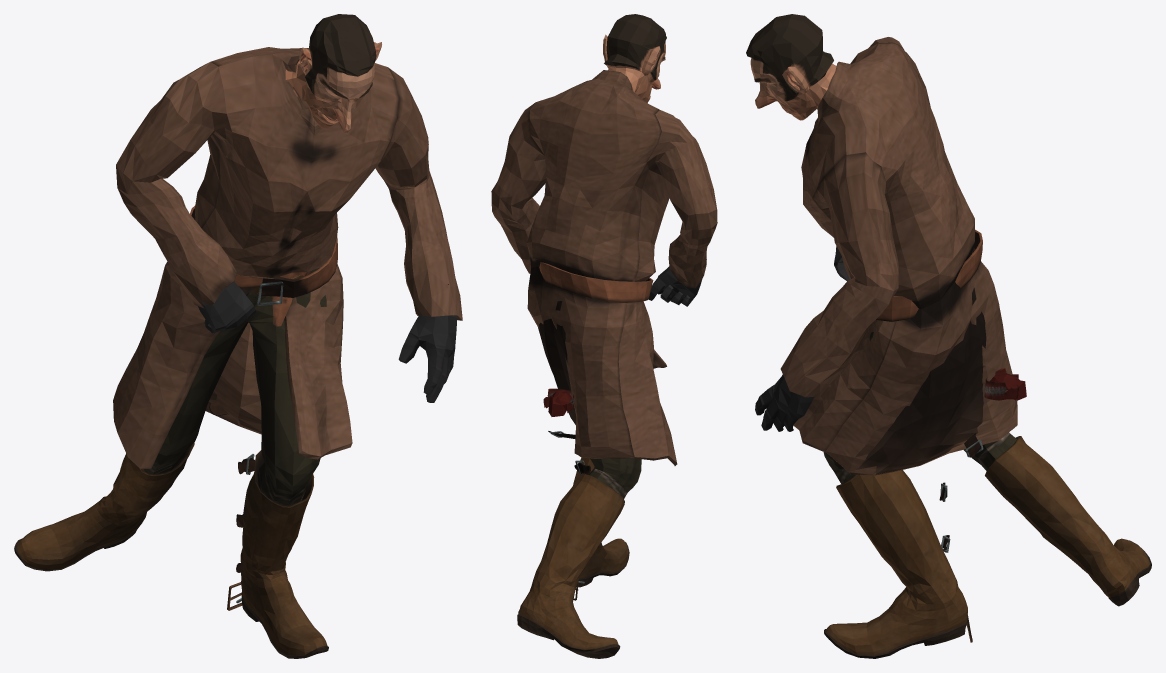
File: sniper-inj-walk_joined_000019.obj
3 views of the same model, side by side, from view 1: azimuth 30°, elevation 25°; view 2: azimuth 150°, elevation 25°; view 3: azimuth 270°, elevation 25° (orthographic). The views are drawn at different scales.
Visible parts, largest first — view 1: Shoes; view 2: Shoes; view 3: Shoes.
Part boxes in pixels (box(x1,y1,x2,y2)): Shoes: box(14, 14, 462, 658); Shoes: box(491, 14, 717, 658); Shoes: box(746, 14, 1151, 658).
Bounding box in the file's own units: 1.09 × 2.34 × 1.36.
